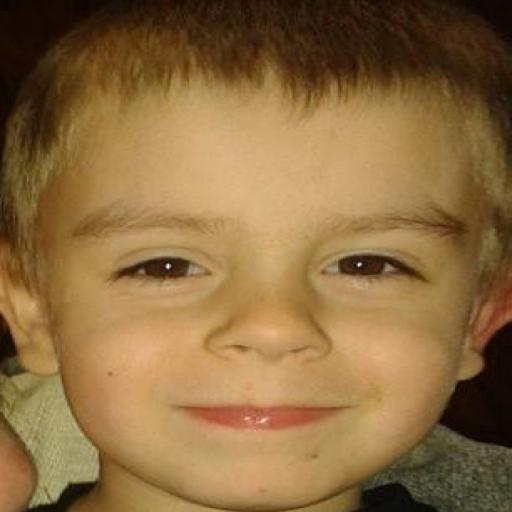Autism: (9, 17, 512, 512)
